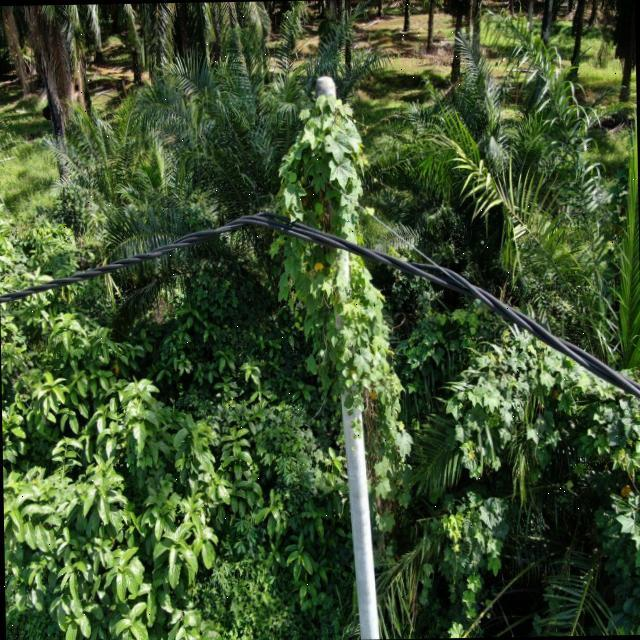critical vegetation: (259, 88, 412, 500)
